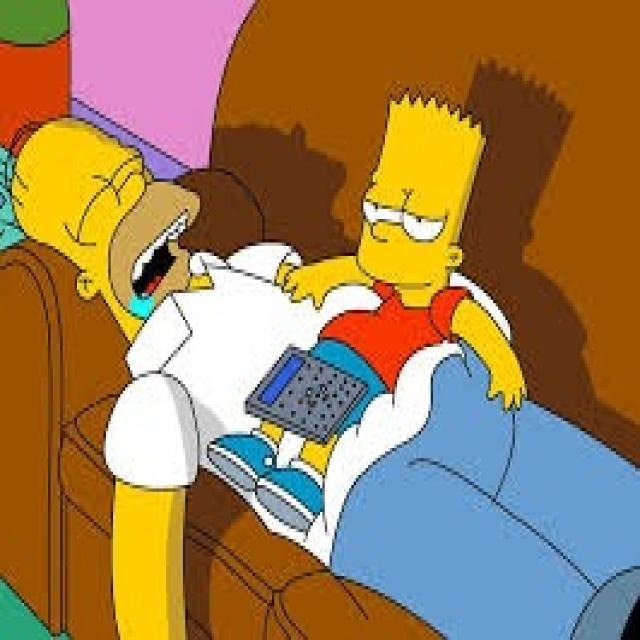Bart Simpson: (351, 89, 496, 322)
Homer Simpson: (2, 108, 210, 350)
